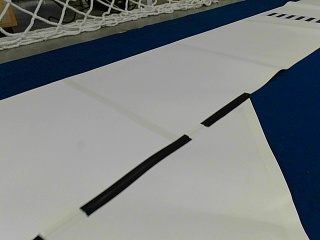crosswalk: (267, 11, 318, 23)
